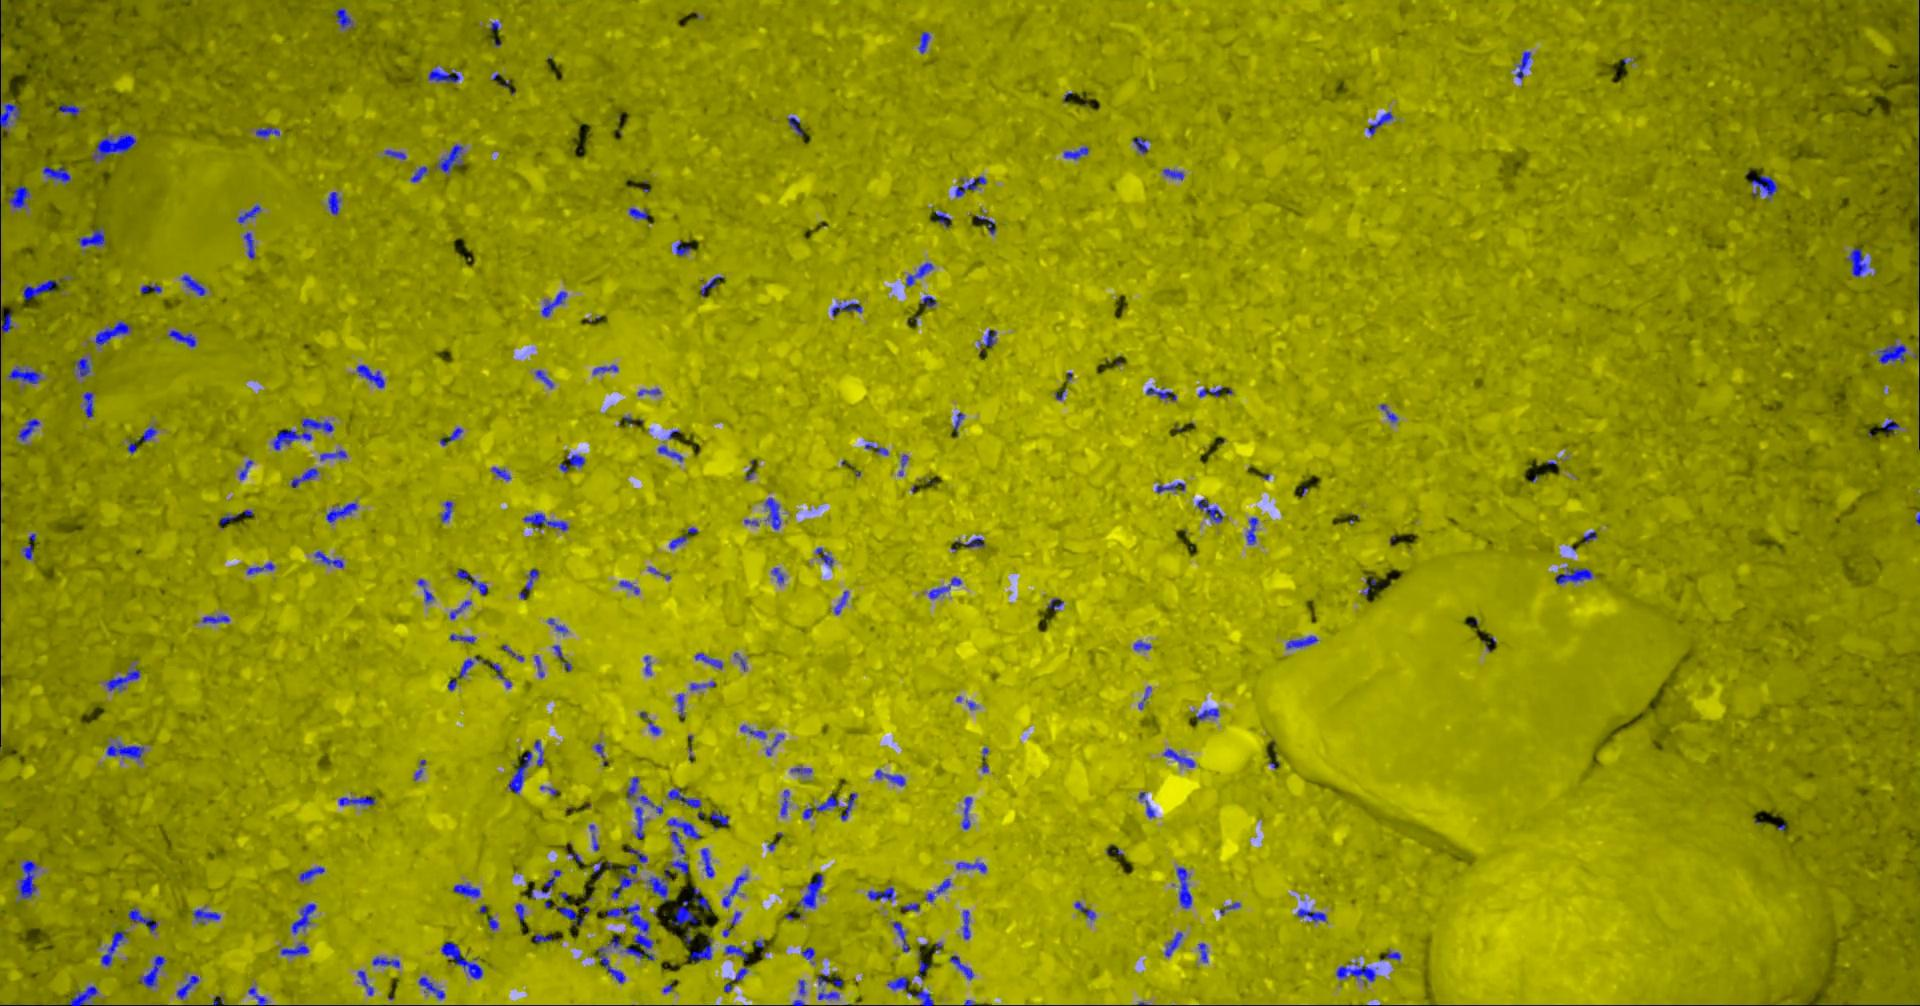ant: (608, 903, 657, 960), (274, 417, 335, 448), (443, 941, 484, 978), (93, 133, 137, 160), (796, 874, 824, 913), (509, 751, 533, 793), (598, 948, 626, 983), (102, 930, 128, 965), (723, 873, 749, 907), (97, 320, 132, 345), (140, 955, 168, 987), (1, 103, 22, 146), (612, 864, 637, 898), (1337, 962, 1377, 983), (804, 795, 841, 818), (456, 569, 489, 594), (524, 512, 569, 530), (648, 868, 670, 901), (19, 859, 38, 898), (293, 903, 317, 934), (930, 577, 963, 598), (668, 817, 701, 838), (438, 144, 463, 171), (107, 669, 141, 690), (24, 279, 60, 298), (907, 262, 935, 286), (130, 908, 159, 931), (1752, 174, 1778, 199), (542, 291, 568, 316), (673, 899, 698, 925), (1197, 498, 1224, 522), (358, 365, 386, 387), (669, 788, 702, 807), (328, 502, 358, 522), (70, 984, 100, 1005), (1369, 111, 1394, 135), (460, 655, 486, 678), (926, 878, 952, 901), (1557, 567, 1594, 583), (108, 743, 145, 760), (956, 177, 988, 196), (1164, 748, 1196, 767), (1848, 246, 1868, 276), (1879, 343, 1909, 363), (951, 955, 975, 979), (521, 568, 540, 598), (420, 976, 446, 998), (1178, 868, 1192, 908), (10, 366, 42, 384), (491, 661, 512, 687), (893, 921, 910, 951), (79, 227, 107, 246), (292, 467, 320, 486), (766, 497, 782, 528), (178, 976, 201, 998), (691, 937, 712, 962), (182, 274, 207, 295), (559, 906, 584, 926), (315, 550, 345, 567), (876, 768, 907, 785), (9, 185, 30, 208), (702, 276, 725, 297), (542, 869, 563, 893), (560, 453, 585, 473), (170, 329, 197, 347), (908, 987, 935, 1005), (833, 300, 863, 315), (842, 793, 858, 821), (724, 911, 742, 936), (1166, 931, 1183, 956), (20, 418, 41, 439), (335, 6, 354, 29), (239, 205, 262, 224), (693, 887, 712, 909), (430, 69, 461, 83), (44, 165, 72, 180), (696, 653, 724, 668), (659, 445, 684, 461), (451, 600, 472, 619), (1076, 901, 1097, 920), (1298, 908, 1327, 922), (1516, 51, 1531, 77), (980, 329, 998, 352), (441, 427, 463, 445), (418, 579, 436, 602), (641, 795, 664, 813), (455, 882, 481, 897), (1147, 387, 1178, 400), (1288, 635, 1319, 648), (869, 887, 897, 901), (194, 908, 222, 922), (282, 942, 310, 956), (977, 215, 997, 234), (1140, 791, 1156, 817), (339, 795, 377, 805), (301, 866, 326, 882), (249, 986, 269, 1005), (767, 733, 785, 754), (726, 944, 749, 960), (742, 724, 768, 738), (702, 847, 715, 876), (359, 970, 375, 995), (817, 547, 836, 567), (636, 807, 648, 838), (23, 533, 37, 559), (248, 561, 276, 574), (672, 831, 687, 854), (957, 861, 988, 873), (536, 370, 555, 387), (1382, 403, 1399, 422), (836, 589, 850, 614), (963, 796, 973, 829), (1, 305, 13, 334), (819, 973, 844, 986), (221, 513, 241, 528), (1065, 146, 1090, 159), (321, 448, 348, 460), (1247, 517, 1258, 544), (535, 739, 546, 766), (329, 191, 342, 213), (245, 232, 257, 258), (76, 357, 91, 376), (84, 391, 95, 417), (138, 426, 157, 441), (1197, 708, 1220, 720), (630, 847, 649, 862), (670, 859, 690, 874), (1158, 481, 1186, 492), (621, 580, 641, 594), (373, 956, 401, 967), (889, 976, 909, 989), (866, 443, 890, 455), (60, 103, 81, 116), (411, 166, 429, 182), (451, 633, 477, 643), (712, 810, 730, 826), (790, 116, 804, 135), (493, 466, 512, 480), (919, 30, 931, 53), (963, 909, 971, 939), (442, 500, 455, 521), (936, 211, 951, 227), (629, 776, 640, 798), (257, 126, 281, 136), (1200, 387, 1224, 398), (1882, 420, 1901, 433), (241, 460, 254, 479), (670, 535, 690, 547), (204, 614, 231, 622), (782, 789, 791, 815), (1134, 137, 1149, 152), (1164, 168, 1185, 179), (630, 207, 650, 218), (677, 240, 692, 255), (803, 946, 817, 963), (590, 824, 599, 850), (386, 149, 408, 159), (594, 365, 618, 373), (535, 934, 559, 942), (734, 967, 749, 981), (922, 295, 938, 307), (965, 537, 985, 547), (691, 681, 717, 688), (819, 989, 841, 998), (773, 567, 785, 583), (1049, 598, 1065, 610), (1135, 640, 1153, 650), (639, 387, 662, 395), (678, 694, 686, 716), (1200, 942, 1209, 962), (517, 903, 526, 921), (142, 285, 163, 292), (903, 903, 921, 911), (792, 767, 813, 774), (1919, 50, 1920, 117), (1919, 206, 1920, 265)
